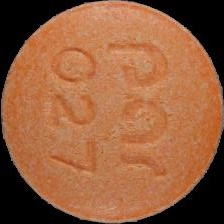76237-173: (0, 0, 224, 224)
